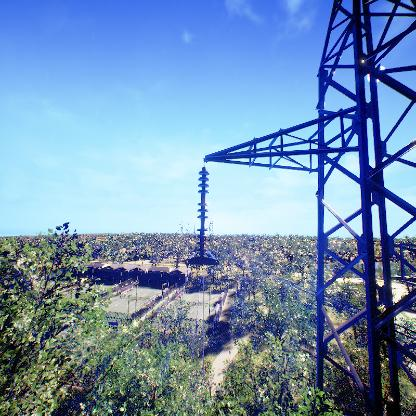insulator: (195, 169, 212, 253)
